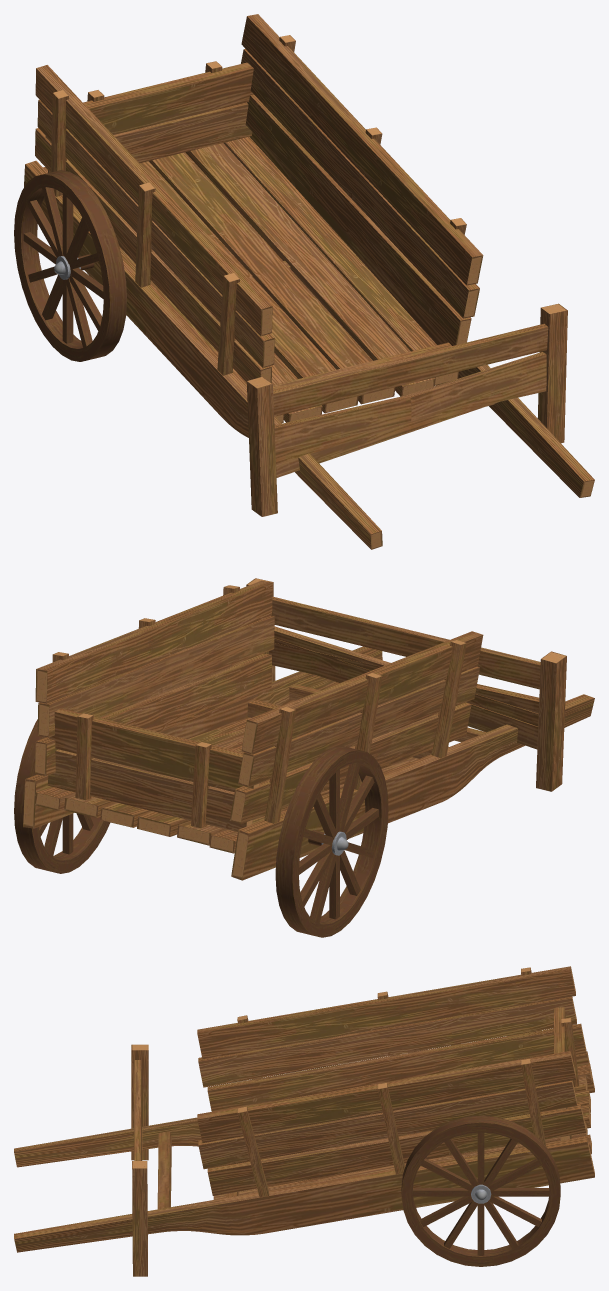
Rendered from village-fence.phone.glb.
The picture shows the model from 3 angles, top to bottom: view 1: azimuth 30°, elevation 25°; view 2: azimuth 150°, elevation 25°; view 3: azimuth 270°, elevation 25°; orthographic projection. The views are drawn at different scales.
Visible parts, largest first — view 1: Prop_Wagon, Prop_WoodenFence_Extension2, Prop_WoodenFence_Single, Prop_WoodenFence_Extension1; view 2: Prop_Wagon, Prop_WoodenFence_Extension2, Prop_WoodenFence_Single, Prop_WoodenFence_Extension1; view 3: Prop_Wagon, Prop_WoodenFence_Single, Prop_WoodenFence_Extension1, Prop_WoodenFence_Extension2.
Part boxes in pixels (x1,y1,x2,y2): Prop_Wagon: [14, 14, 594, 549]; Prop_WoodenFence_Extension2: [273, 306, 567, 452]; Prop_WoodenFence_Single: [246, 310, 567, 516]; Prop_WoodenFence_Extension1: [273, 303, 567, 477]; Prop_Wagon: [14, 580, 594, 937]; Prop_WoodenFence_Extension2: [252, 578, 540, 713]; Prop_WoodenFence_Single: [265, 622, 566, 791]; Prop_WoodenFence_Extension1: [246, 581, 540, 749]; Prop_Wagon: [14, 966, 594, 1266]; Prop_WoodenFence_Single: [131, 1044, 148, 1276]; Prop_WoodenFence_Extension1: [132, 1060, 147, 1263]; Prop_WoodenFence_Extension2: [132, 1060, 147, 1193].
Size of the model in its own units: 2.06 by 1.56 by 4.02.
Materials: 1 (1 with a texture image).
